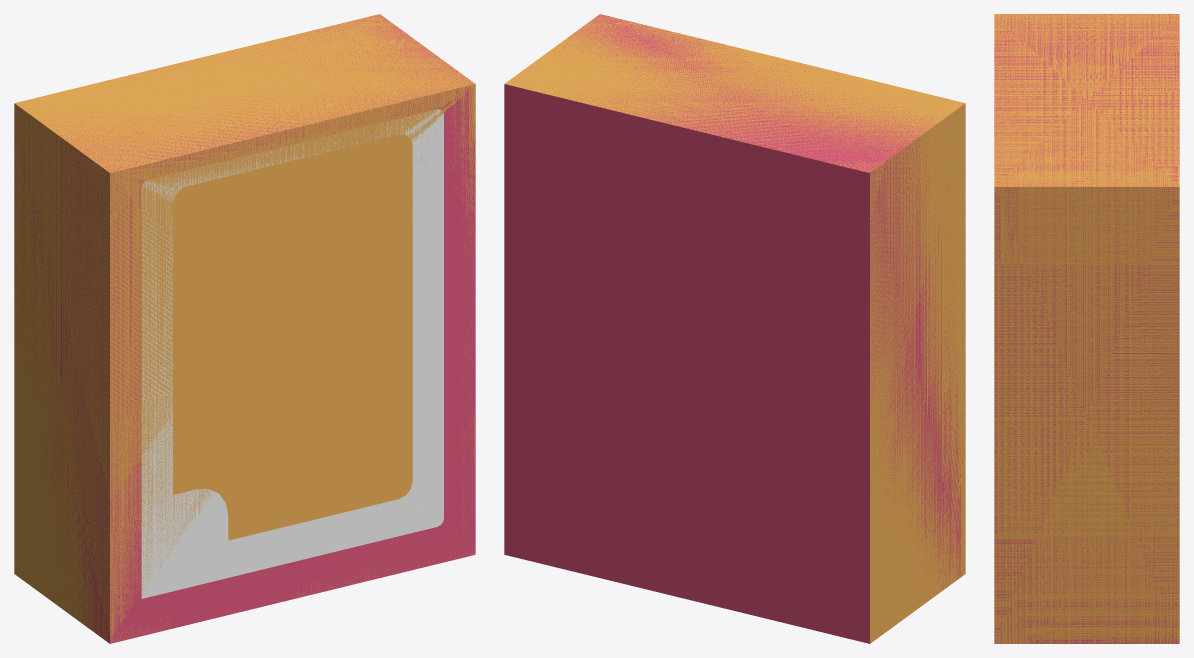
File: cute_box.fbx
3 renders of one model, left to right at view 1: azimuth 30°, elevation 25°; view 2: azimuth 150°, elevation 25°; view 3: azimuth 270°, elevation 25°, orthographic. The views are drawn at different scales.
Parts seen in each view (by area): view 1: box_bunzo, cute_box_mommy; view 2: cute_box_mommy, box_bunzo; view 3: box_bunzo, cute_box_mommy.
Boxes of the visible parts, bbox=[...] form: box_bunzo: bbox=[14, 14, 475, 643]; cute_box_mommy: bbox=[14, 14, 475, 643]; cute_box_mommy: bbox=[504, 14, 965, 643]; box_bunzo: bbox=[505, 14, 965, 643]; box_bunzo: bbox=[994, 14, 1179, 643]; cute_box_mommy: bbox=[994, 14, 1179, 643].
Bounding box in the file's own units: 13.1 × 16.12 × 5.93.
